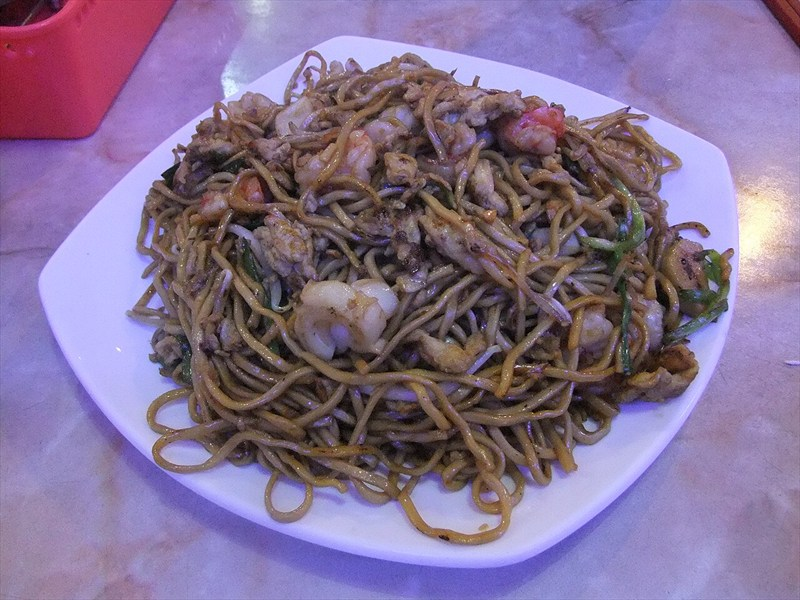Mie Goreng: (147, 104, 698, 481)
